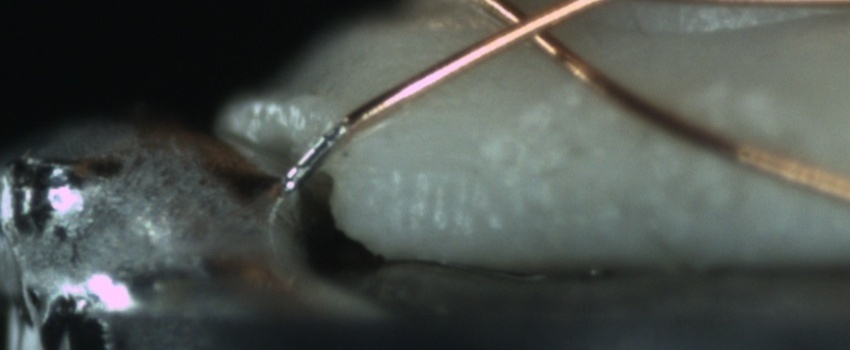CL: (481, 1, 579, 59)
TS: (284, 120, 350, 189)
